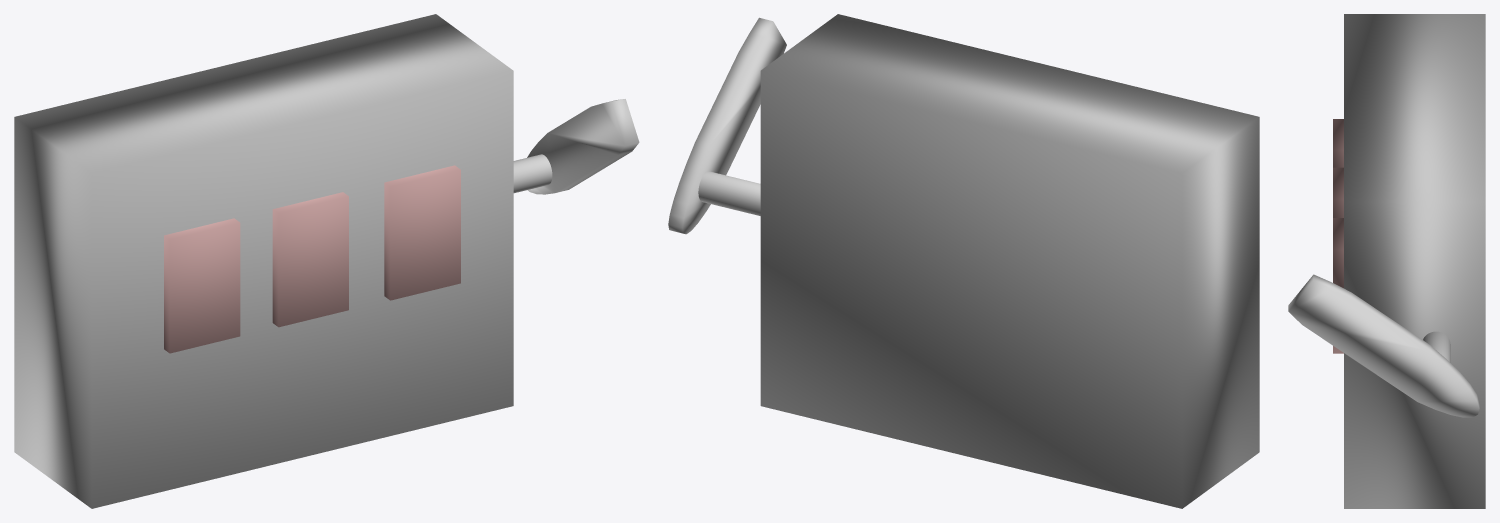
Rendered from Панель с ручкой.fbx.
3 renders of one model, left to right at view 1: azimuth 30°, elevation 25°; view 2: azimuth 150°, elevation 25°; view 3: azimuth 270°, elevation 25°, orthographic. The views are drawn at different scales.
Parts seen in each view (by area): view 1: Cube_034, Cube_006; view 2: Cube_034, Cube_006; view 3: Cube_034, Cube_006.
Boxes of the visible parts, x1,y1,x2,y2 form: Cube_034: [14, 14, 552, 508]; Cube_006: [527, 99, 639, 194]; Cube_034: [698, 14, 1259, 508]; Cube_006: [668, 17, 786, 234]; Cube_034: [1333, 14, 1485, 508]; Cube_006: [1288, 274, 1479, 417].
Bounding box in the file's own units: 0.5327 × 0.3302 × 0.1923.
